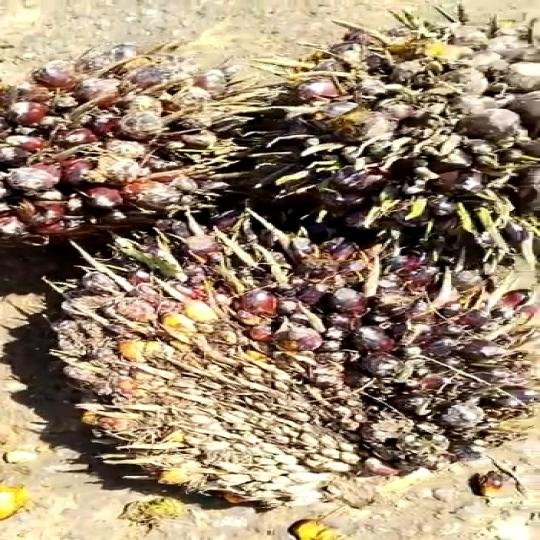kurang masak: (15, 205, 538, 510), (259, 19, 540, 273), (0, 34, 272, 256)
